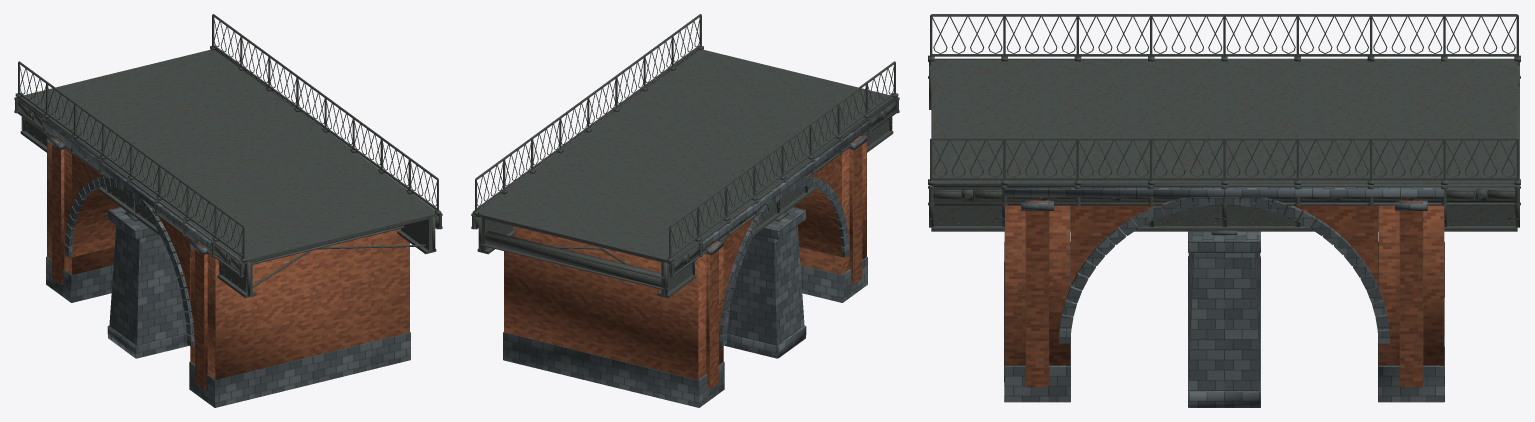
Rendered from railway-viaduct.glb.
3 views of the same model, side by side, from view 1: azimuth 30°, elevation 25°; view 2: azimuth 150°, elevation 25°; view 3: azimuth 270°, elevation 25° (orthographic). The views are drawn at different scales.
Parts seen in each view (by area): view 1: low_detail__heritage_iron, masonry_arch_bay__aged_brick, masonry_arch_bay__melbourne_bluestone, bluestone_pier__melbourne_bluestone, railing_right__heritage_iron, railing_left__heritage_iron, fascia_left__heritage_iron, low_detail_railing_left__heritage_iron, low_detail_railing_right__heritage_iron, riveted_girder_span__heritage_iron, fascia_right__heritage_iron; view 2: low_detail__heritage_iron, masonry_arch_bay__aged_brick, masonry_arch_bay__melbourne_bluestone, bluestone_pier__melbourne_bluestone, railing_right__heritage_iron, riveted_girder_span__heritage_iron, railing_left__heritage_iron, fascia_left__heritage_iron, low_detail_railing_left__heritage_iron, low_detail_railing_right__heritage_iron, fascia_right__heritage_iron; view 3: low_detail__heritage_iron, masonry_arch_bay__aged_brick, masonry_arch_bay__melbourne_bluestone, bluestone_pier__melbourne_bluestone, fascia_right__heritage_iron, railing_right__heritage_iron, railing_left__heritage_iron, low_detail_railing_left__heritage_iron, low_detail_railing_right__heritage_iron, fascia_left__heritage_iron, riveted_girder_span__heritage_iron.
Boxes of the visible parts, x1,y1,x2,y2 form: low_detail__heritage_iron: [20, 49, 438, 297]; masonry_arch_bay__aged_brick: [47, 135, 409, 389]; masonry_arch_bay__melbourne_bluestone: [42, 121, 410, 407]; bluestone_pier__melbourne_bluestone: [107, 207, 189, 358]; railing_right__heritage_iron: [210, 14, 441, 215]; railing_left__heritage_iron: [15, 61, 246, 262]; fascia_left__heritage_iron: [14, 97, 244, 277]; low_detail_railing_left__heritage_iron: [18, 62, 244, 258]; low_detail_railing_right__heritage_iron: [212, 14, 438, 211]; riveted_girder_span__heritage_iron: [21, 117, 435, 296]; fascia_right__heritage_iron: [215, 49, 442, 229]; low_detail__heritage_iron: [475, 49, 893, 298]; masonry_arch_bay__aged_brick: [504, 135, 866, 389]; masonry_arch_bay__melbourne_bluestone: [503, 121, 871, 407]; bluestone_pier__melbourne_bluestone: [724, 207, 806, 358]; railing_right__heritage_iron: [472, 14, 703, 215]; riveted_girder_span__heritage_iron: [478, 117, 892, 296]; railing_left__heritage_iron: [667, 61, 898, 262]; fascia_left__heritage_iron: [669, 97, 899, 277]; low_detail_railing_left__heritage_iron: [669, 61, 895, 258]; low_detail_railing_right__heritage_iron: [475, 14, 701, 211]; fascia_right__heritage_iron: [471, 49, 698, 229]; low_detail__heritage_iron: [931, 59, 1517, 231]; masonry_arch_bay__aged_brick: [1004, 200, 1444, 387]; masonry_arch_bay__melbourne_bluestone: [1004, 187, 1444, 402]; bluestone_pier__melbourne_bluestone: [1188, 231, 1260, 407]; fascia_right__heritage_iron: [928, 184, 1520, 206]; railing_right__heritage_iron: [928, 137, 1520, 184]; railing_left__heritage_iron: [928, 14, 1520, 61]; low_detail_railing_left__heritage_iron: [930, 14, 1518, 57]; low_detail_railing_right__heritage_iron: [930, 138, 1518, 180]; fascia_left__heritage_iron: [928, 58, 1520, 78]; riveted_girder_span__heritage_iron: [929, 65, 1519, 227].
Bounding box in the file's own units: 8.8 × 7.96 × 16.18.
Materials: 3 (3 with a texture image).
